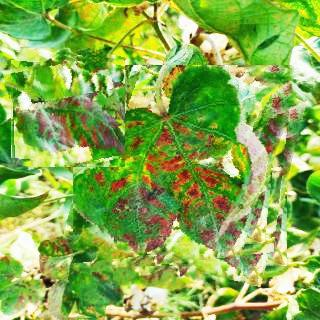blight: (73, 65, 297, 277), (8, 50, 125, 167)
